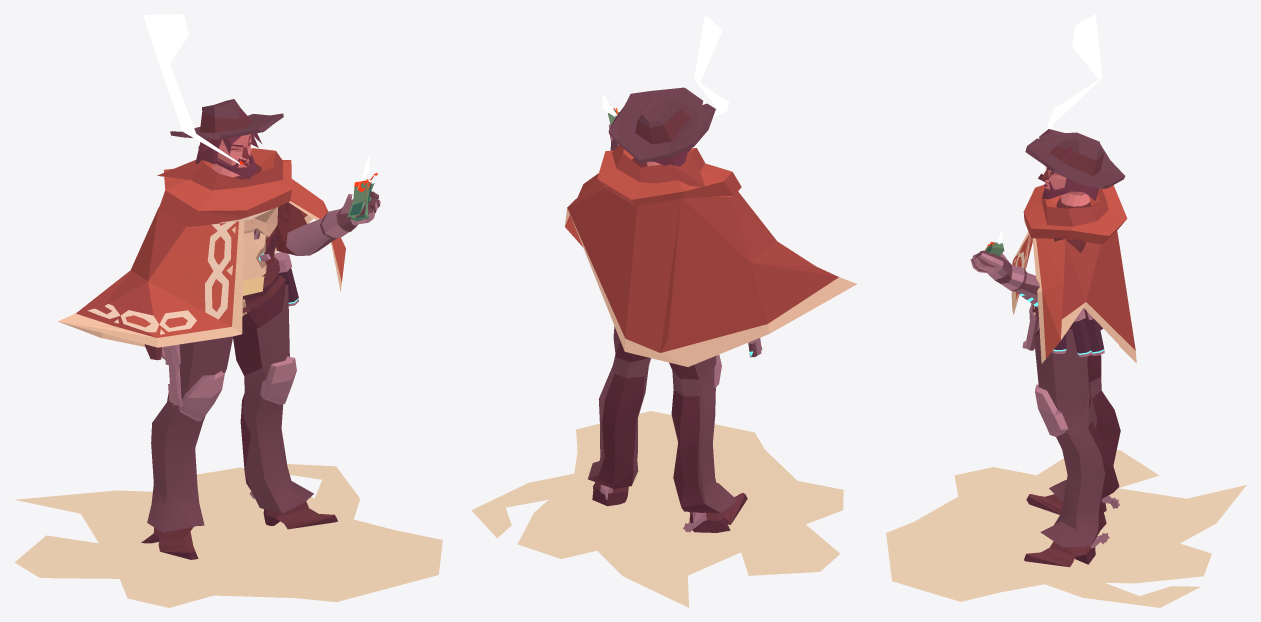
The model's file is low_poly_mccree.glb.
3 views of the same model, side by side, from view 1: azimuth 30°, elevation 25°; view 2: azimuth 150°, elevation 25°; view 3: azimuth 270°, elevation 25° (orthographic). The views are drawn at different scales.
Visible parts, largest first — view 1: Cylinder.001, mccree, Cylinder, Cube.001, GUN, Cylinder.002; view 2: Cylinder.001, mccree, Cylinder; view 3: Cylinder.001, mccree, Cylinder, Cylinder.003, Cylinder.004.
Part boxes in pixels (bbox=[...]): Cylinder.001: bbox=[14, 148, 442, 607]; mccree: bbox=[141, 14, 380, 559]; Cylinder: bbox=[170, 99, 283, 139]; Cube.001: bbox=[347, 154, 377, 221]; GUN: bbox=[161, 344, 182, 406]; Cylinder.002: bbox=[274, 252, 298, 306]; Cylinder.001: bbox=[471, 145, 856, 607]; mccree: bbox=[588, 14, 747, 532]; Cylinder: bbox=[608, 87, 715, 162]; Cylinder.001: bbox=[886, 185, 1246, 607]; mccree: bbox=[970, 14, 1120, 567]; Cylinder: bbox=[1025, 129, 1125, 188]; Cylinder.003: bbox=[1071, 308, 1091, 357]; Cylinder.004: bbox=[1087, 312, 1104, 355].
Size of the model in its own units: 1.99 by 2.97 by 1.96.
